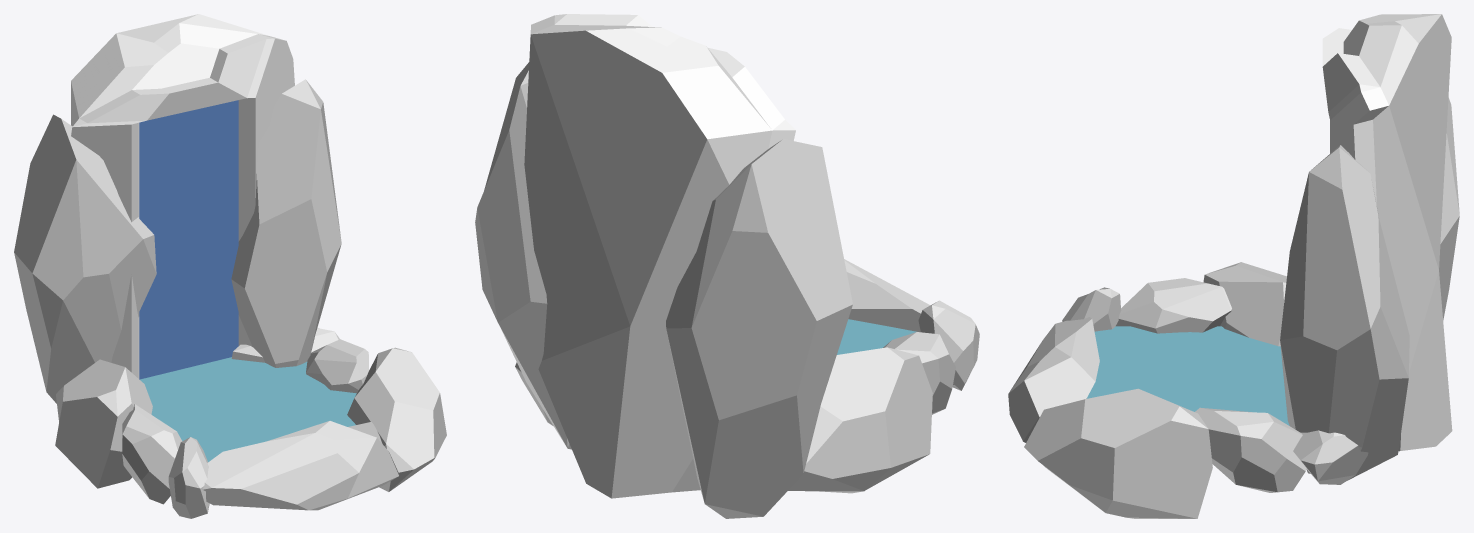
The model's file is Waterfall.fbx.
The picture shows the model from 3 angles, left to right: view 1: azimuth 30°, elevation 25°; view 2: azimuth 150°, elevation 25°; view 3: azimuth 270°, elevation 25°; orthographic projection. The views are drawn at different scales.
Parts seen in each view (by area): view 1: Waterfall_Rock, Waterfall_Rock.007, Waterfall_Water, Waterfall_Rock.008, Waterfall_Pool, Waterfall_Rock.002, Waterfall_Rock.006, Waterfall_Rock.003, Waterfall_Rock.009, Waterfall_Rock.001, Waterfall_Rock.005, Waterfall_Rock.004; view 2: Waterfall_Rock, Waterfall_Rock.007, Waterfall_Rock.003, Waterfall_Rock.008, Waterfall_Rock.002, Waterfall_Rock.001, Waterfall_Rock.009, Waterfall_Pool; view 3: Waterfall_Rock, Waterfall_Rock.008, Waterfall_Rock.006, Waterfall_Pool, Waterfall_Rock.005, Waterfall_Rock.002, Waterfall_Rock.009, Waterfall_Rock.003, Waterfall_Rock.004, Waterfall_Rock.007, Waterfall_Rock.001.
Boxes of the visible parts, x1=… form: Waterfall_Rock: x1=71, y1=14, x2=294, y2=378; Waterfall_Rock.007: x1=14, y1=114, x2=156, y2=403; Waterfall_Water: x1=139, y1=100, x2=238, y2=379; Waterfall_Rock.008: x1=231, y1=79, x2=341, y2=367; Waterfall_Pool: x1=140, y1=357, x2=356, y2=462; Waterfall_Rock.002: x1=202, y1=421, x2=399, y2=510; Waterfall_Rock.006: x1=347, y1=347, x2=446, y2=491; Waterfall_Rock.003: x1=55, y1=359, x2=152, y2=488; Waterfall_Rock.009: x1=122, y1=404, x2=182, y2=504; Waterfall_Rock.001: x1=168, y1=437, x2=209, y2=518; Waterfall_Rock.005: x1=306, y1=339, x2=369, y2=393; Waterfall_Rock.004: x1=231, y1=328, x2=339, y2=362; Waterfall_Rock: x1=524, y1=14, x2=795, y2=498; Waterfall_Rock.007: x1=666, y1=139, x2=852, y2=518; Waterfall_Rock.003: x1=788, y1=347, x2=932, y2=493; Waterfall_Rock.008: x1=475, y1=62, x2=571, y2=449; Waterfall_Rock.002: x1=844, y1=259, x2=930, y2=332; Waterfall_Rock.001: x1=918, y1=300, x2=979, y2=390; Waterfall_Rock.009: x1=883, y1=332, x2=955, y2=414; Waterfall_Pool: x1=837, y1=319, x2=916, y2=354; Waterfall_Rock: x1=1322, y1=14, x2=1452, y2=451; Waterfall_Rock.008: x1=1280, y1=145, x2=1409, y2=480; Waterfall_Rock.006: x1=1024, y1=388, x2=1212, y2=518; Waterfall_Pool: x1=1086, y1=326, x2=1289, y2=425; Waterfall_Rock.005: x1=1195, y1=407, x2=1305, y2=492; Waterfall_Rock.002: x1=1008, y1=317, x2=1099, y2=442; Waterfall_Rock.009: x1=1117, y1=278, x2=1232, y2=333; Waterfall_Rock.003: x1=1203, y1=262, x2=1286, y2=346; Waterfall_Rock.004: x1=1293, y1=430, x2=1368, y2=484; Waterfall_Rock.007: x1=1439, y1=97, x2=1459, y2=320; Waterfall_Rock.001: x1=1062, y1=287, x2=1121, y2=331.
Size of what is drawn, in the model's own units: 401 by 474 by 444.
